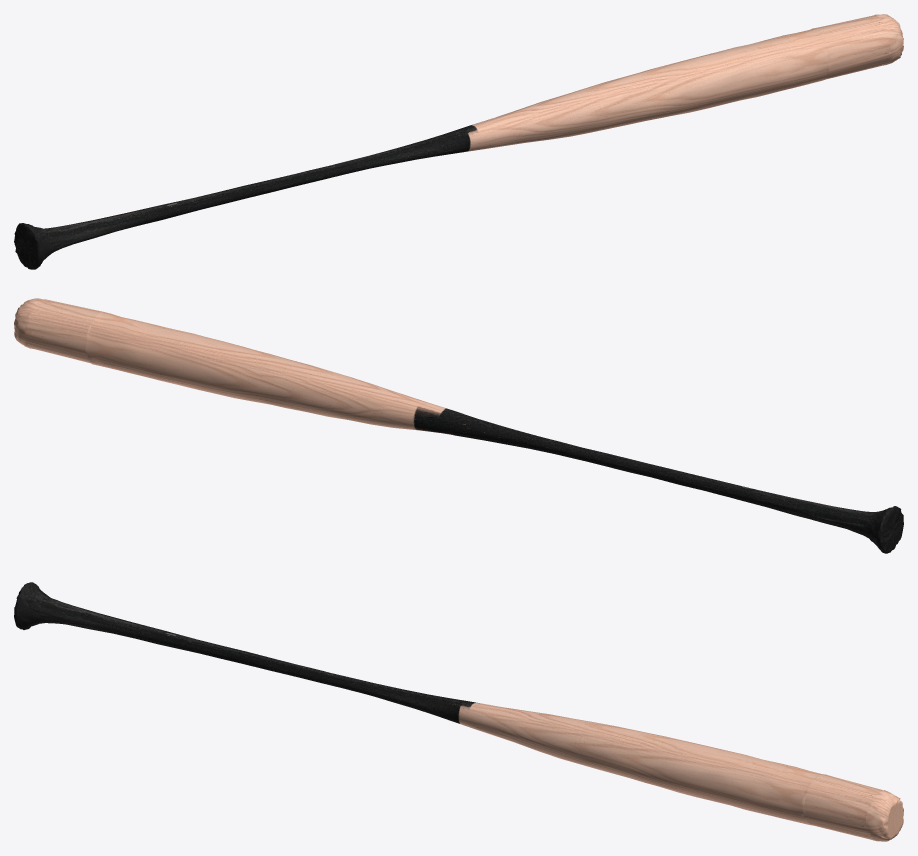
Rendered from batemaple2.glb.
The picture shows the model from 3 angles, top to bottom: view 1: azimuth 30°, elevation 25°; view 2: azimuth 150°, elevation 25°; view 3: azimuth 330°, elevation 25°; orthographic projection.
Bounding box in the file's own units: 1 × 0.0537 × 0.0533.
Materials: 1 (1 with a texture image).
